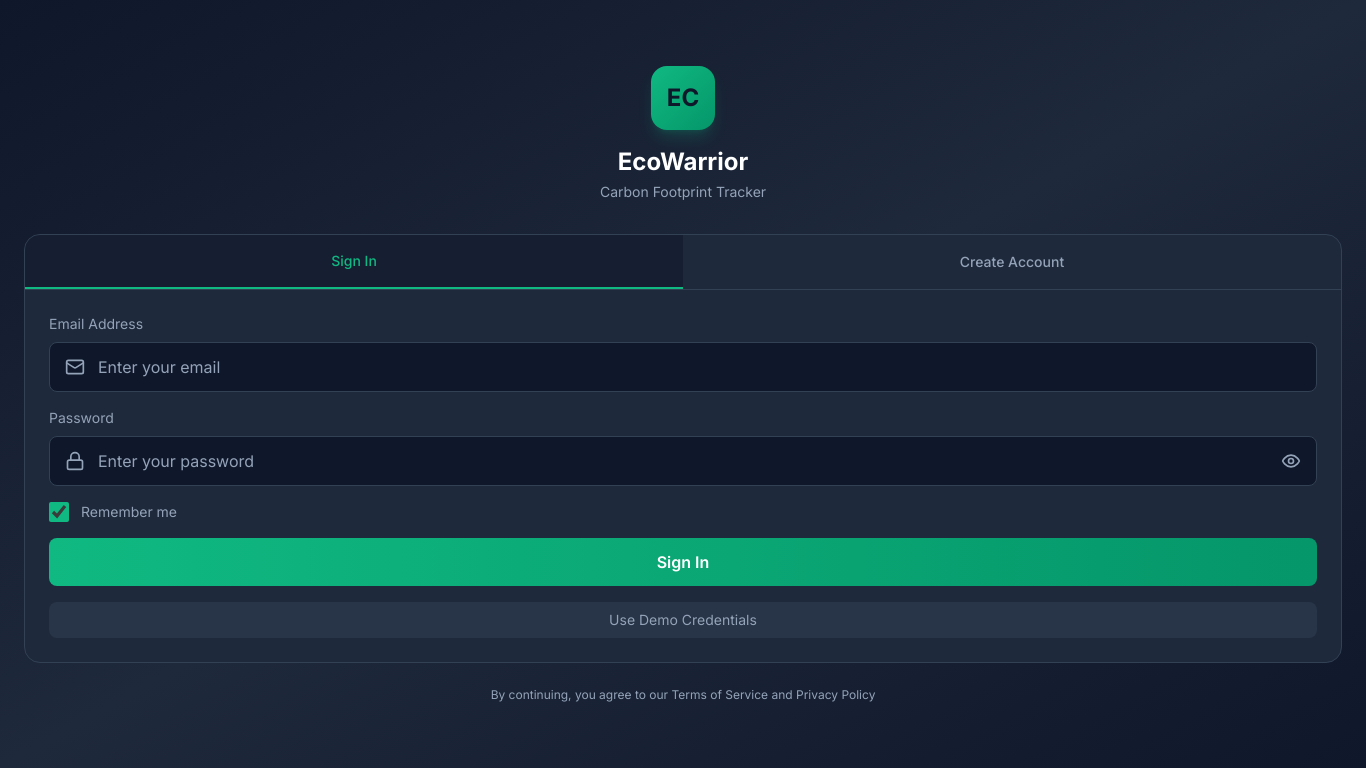
Test case: AuthPortal – Form Validation › shows email format error for invalid email
The image size is (1366, 768).
Type "notanemail" into the field labelled "Email Address".
click(683, 366); type("notanemail")  # box [49, 342, 1317, 392]
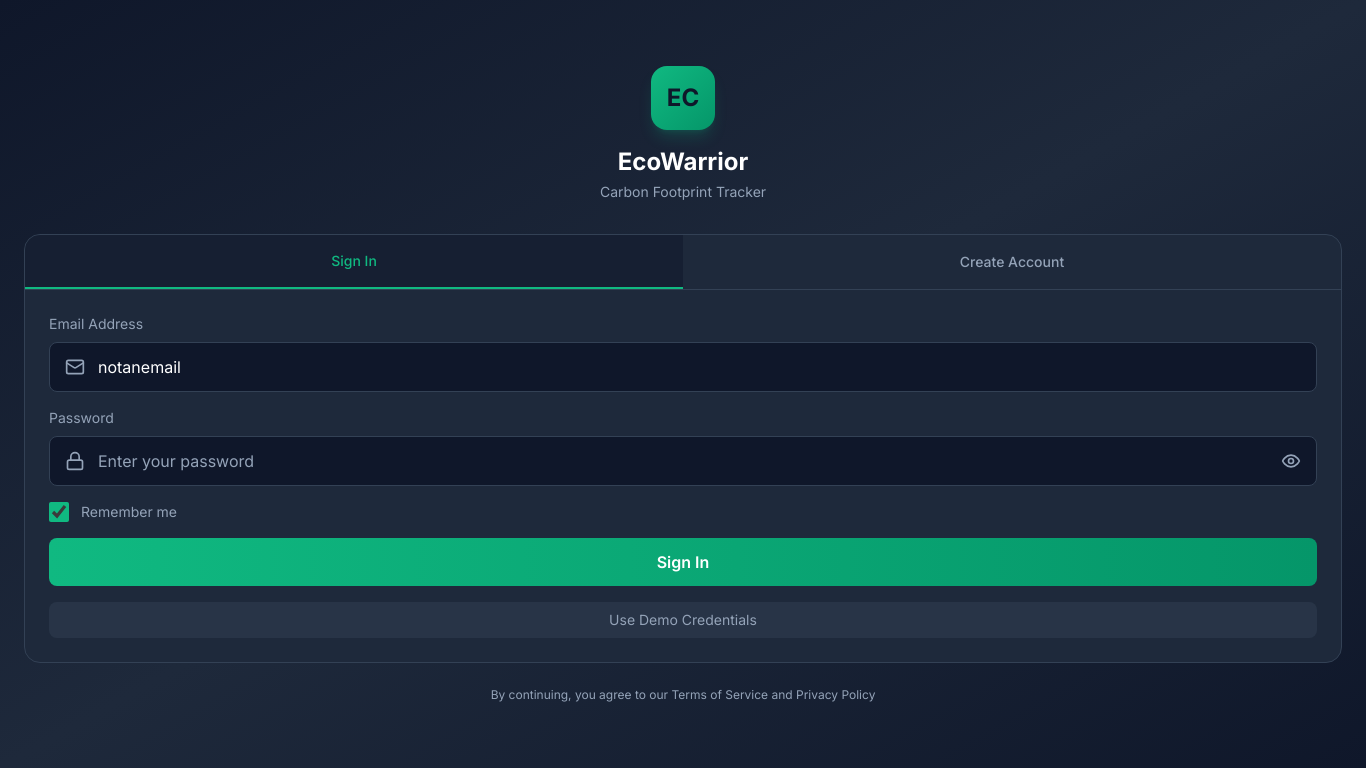
Click the button with aria-label "sign in to your account".
click(683, 562)  # box [49, 538, 1317, 586]
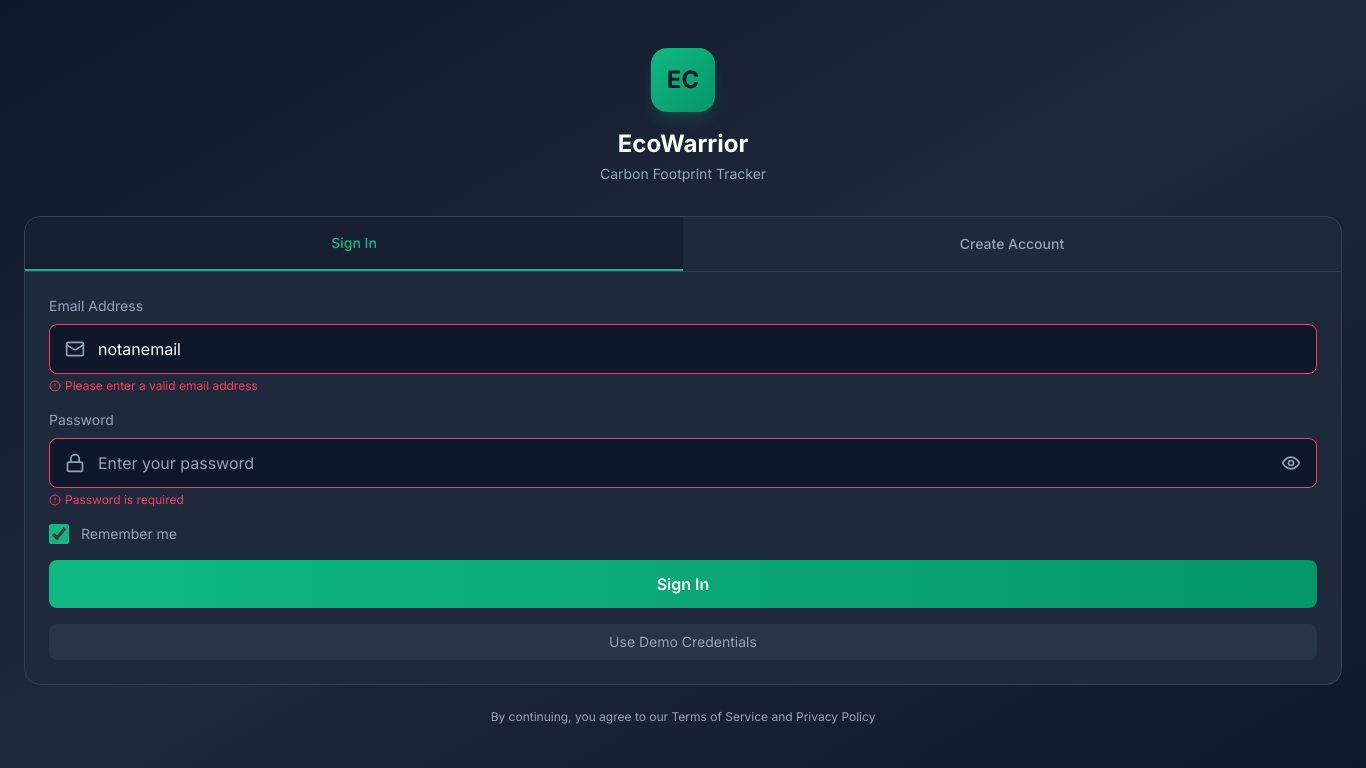
expect the text "Please enter a valid email address" is shown: met, box [49, 378, 258, 393]
